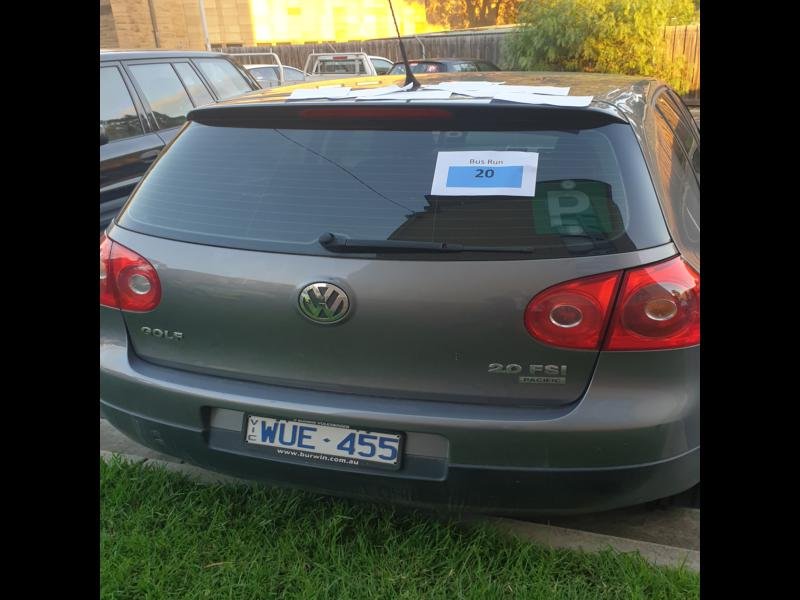BusRun: (444, 165, 526, 189)
PlateNo: (242, 415, 400, 466)
